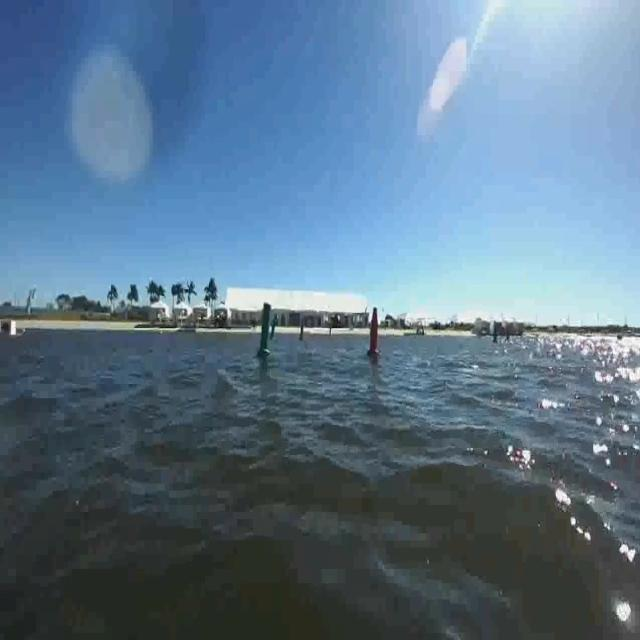green-column-buoy: (256, 302, 275, 359), (297, 324, 305, 344)
red-column-buoy: (366, 307, 380, 358)
